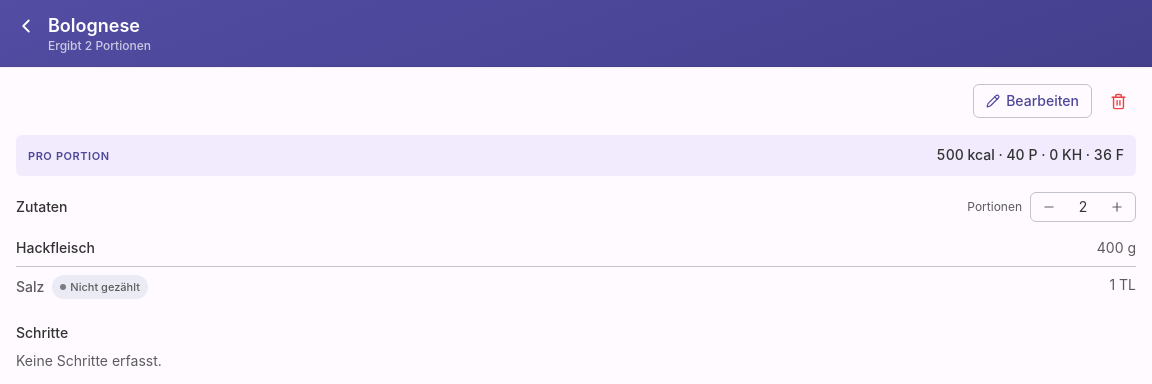
it: RecipeDetail — totals strip & displayQuantity › scales displayQuantity.amount with the multiplier
Expected: the heading "Bolognese" is shown, [48,15,140,36]
Click the button named "Eine Portion mehr": (1117, 207) [1103,195,1131,219]
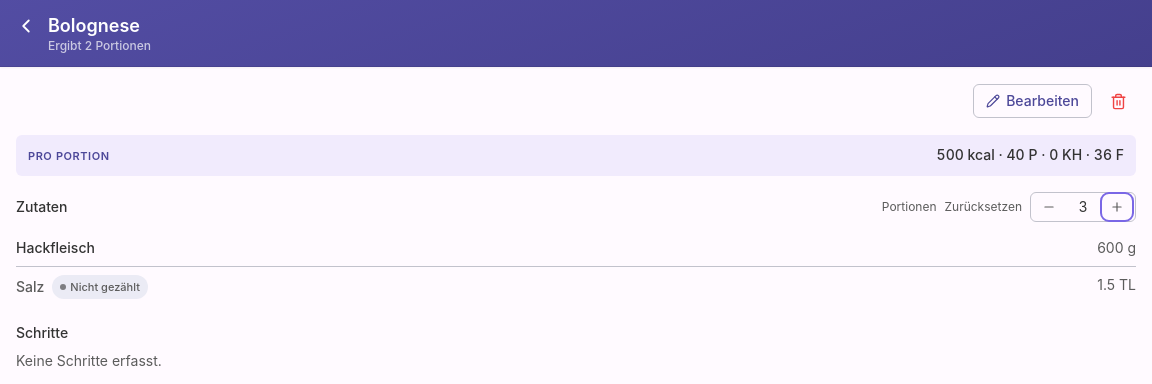
Click the button named "Eine Portion mehr": (1117, 207) [1103,195,1131,219]
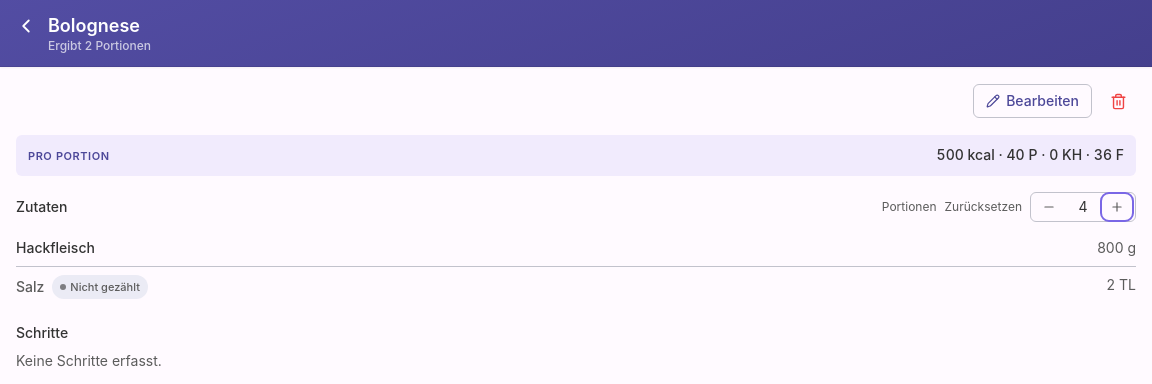
Expected: the text "2 TL" is shown, [1107,275,1136,295]
